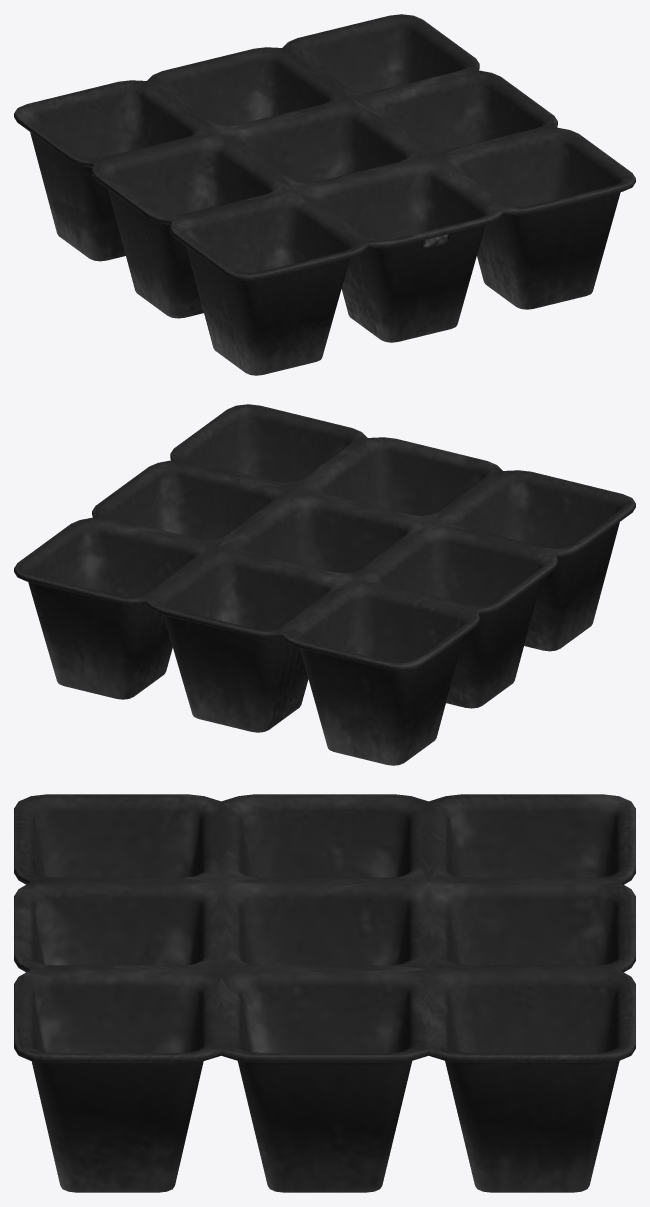
The model's file is seeding_tray_01.gltf.
The picture shows the model from 3 angles, top to bottom: view 1: azimuth 30°, elevation 25°; view 2: azimuth 150°, elevation 25°; view 3: azimuth 270°, elevation 25°; orthographic projection. The views are drawn at different scales.
Parts seen in each view (by area): view 1: seeding_tray_01; view 2: seeding_tray_01; view 3: seeding_tray_01.
Boxes of the visible parts, x1,y1,x2,y2 form: seeding_tray_01: (14,14,635,375); seeding_tray_01: (14,404,635,765); seeding_tray_01: (14,794,635,1192).
Bounding box in the file's own units: 0.2202 × 0.0608 × 0.2202.
Materials: 1 (1 with a texture image).
